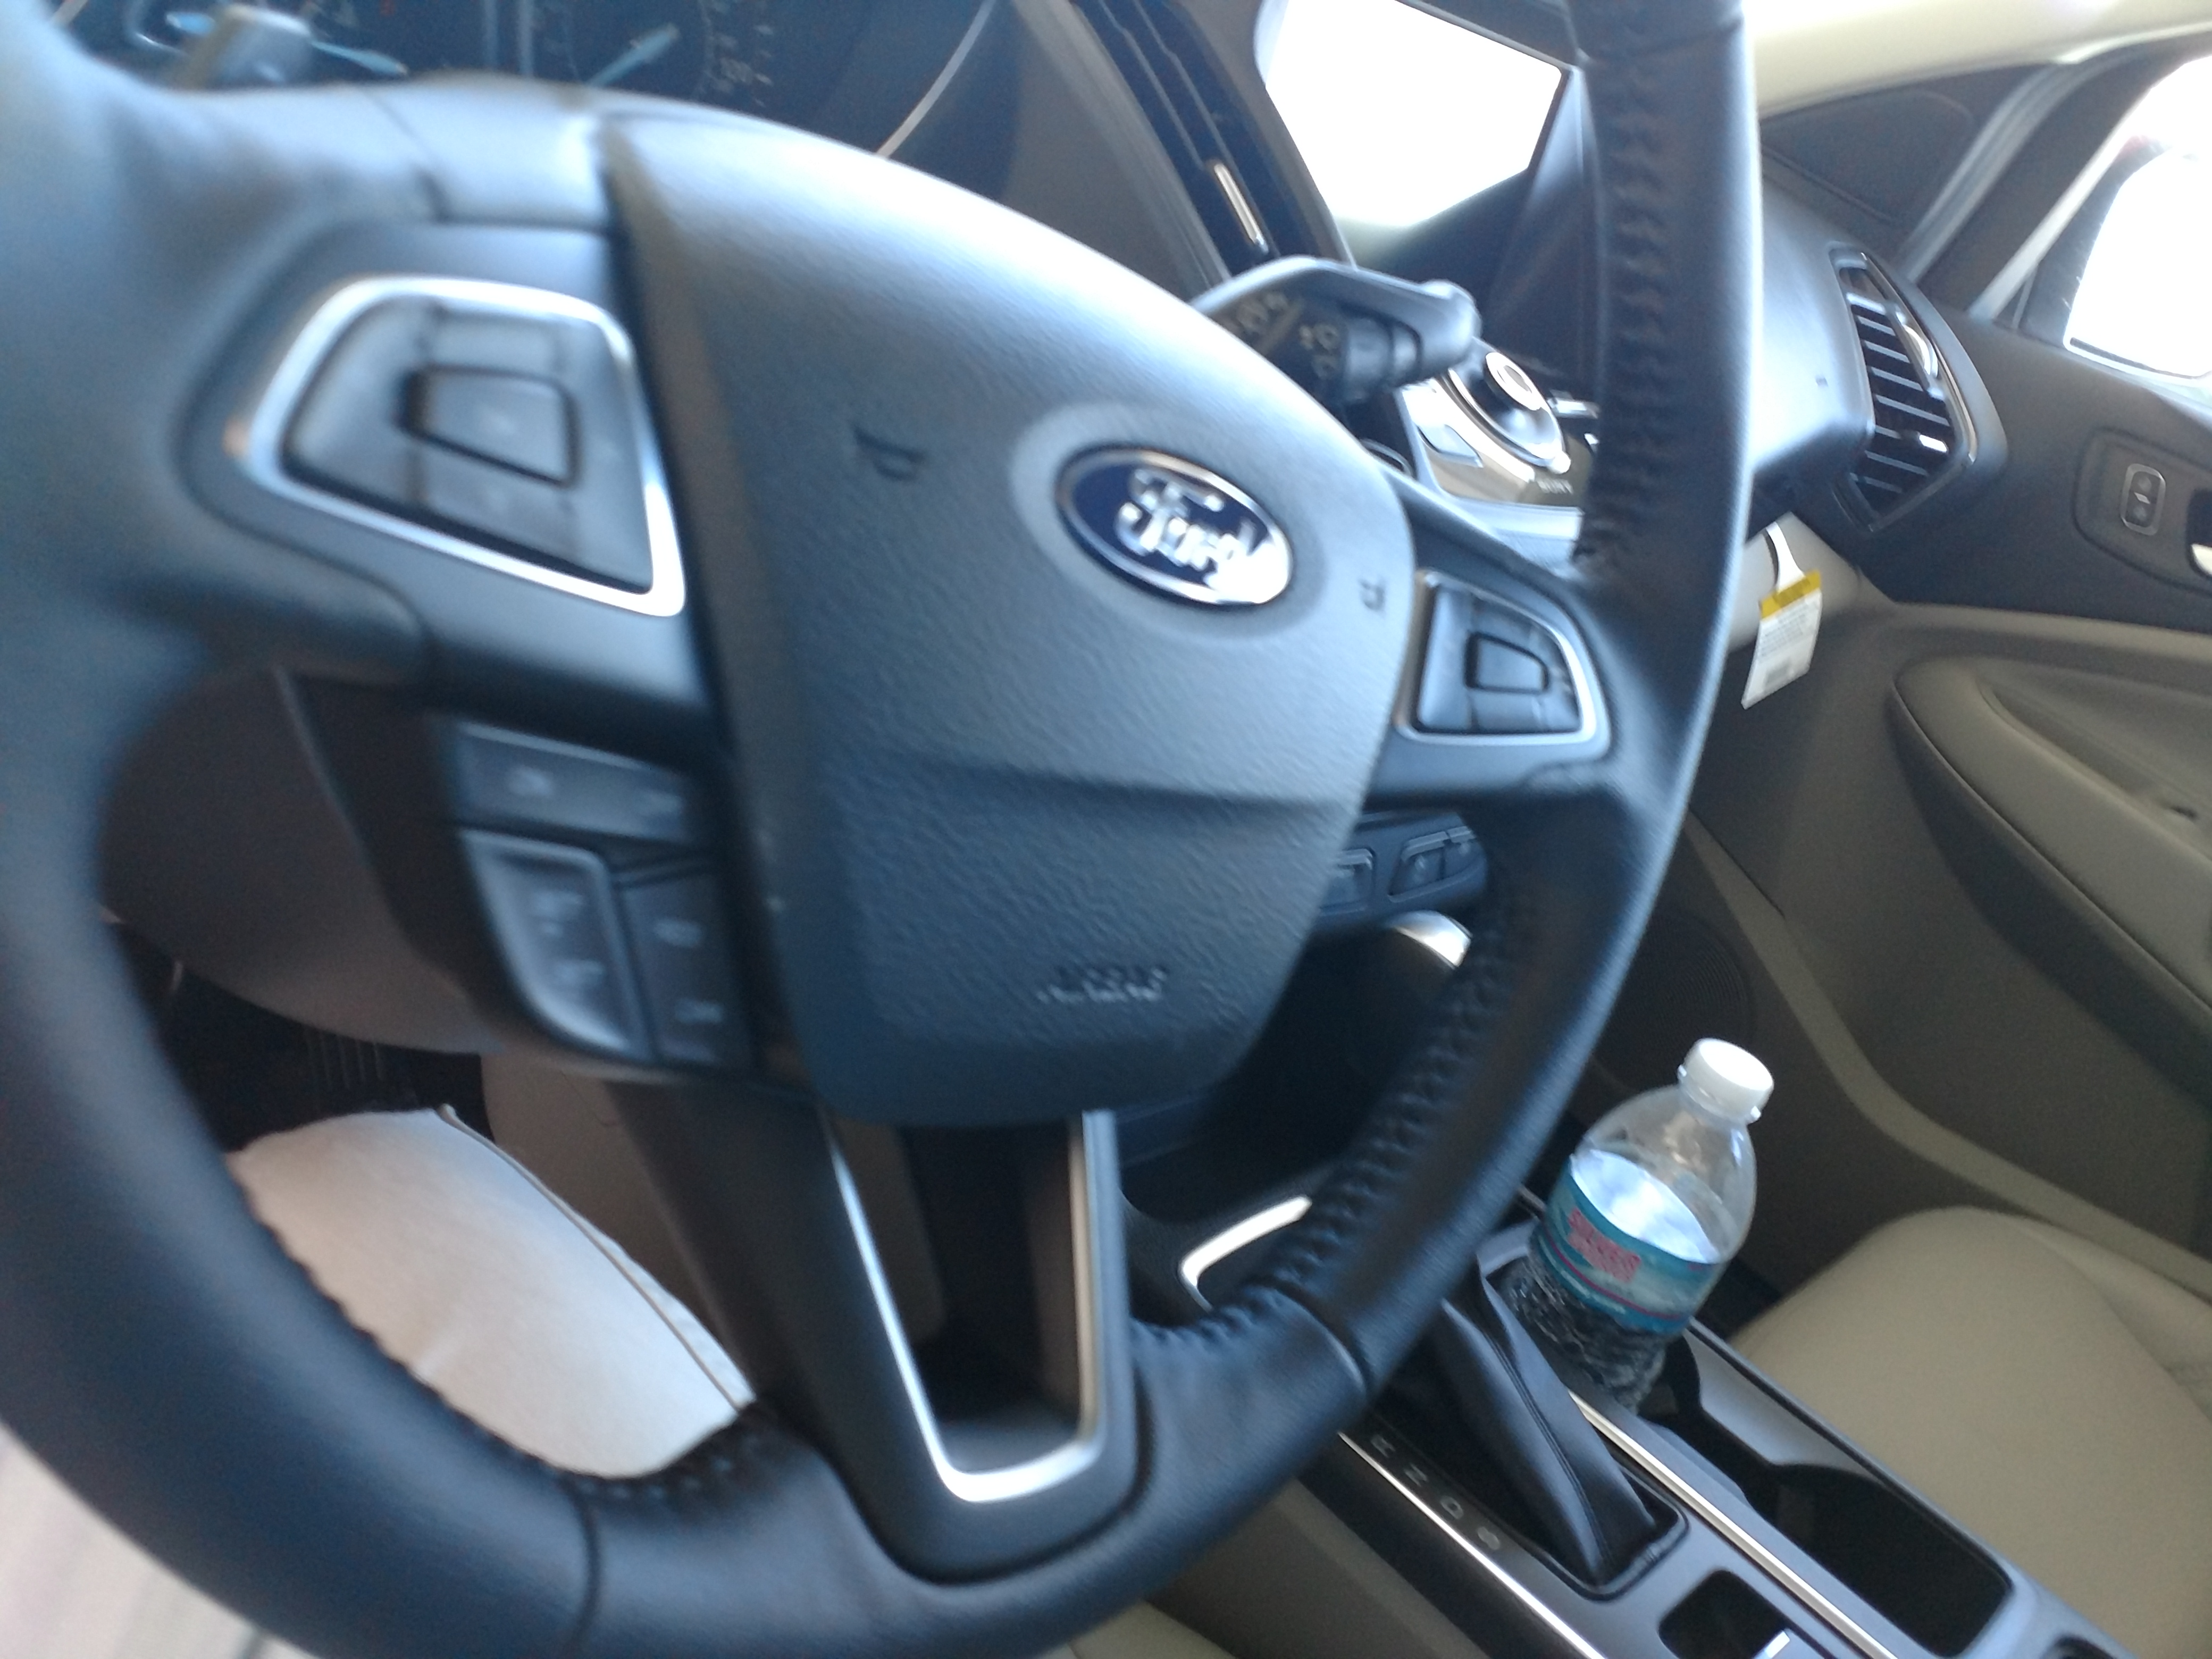Ford: (1047, 423, 1331, 624)
